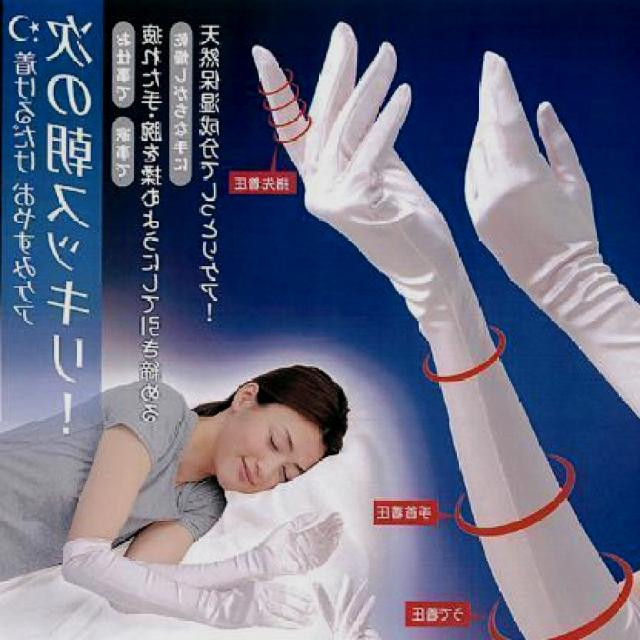face_nomask: (221, 418, 314, 500)
hand_glove: (251, 20, 438, 272), (463, 51, 594, 284), (298, 574, 388, 640), (257, 512, 341, 578), (224, 578, 314, 636)
head_nohelmet: (268, 355, 348, 440)
person: (0, 343, 377, 640)
